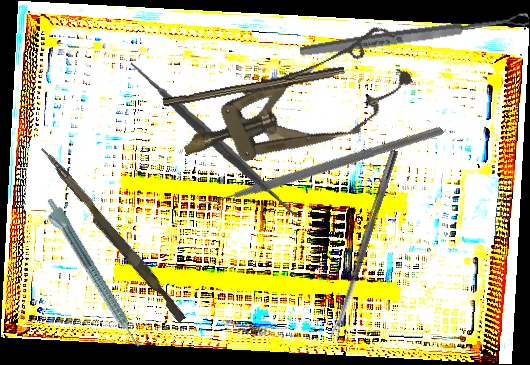Chopper: (187, 29, 445, 294)
Handpiece: (37, 195, 144, 354)
Pusher: (33, 145, 191, 324)
Scalpel Handle: (162, 63, 346, 113)
Spatula Surgical: (122, 46, 306, 233)
Speculum: (167, 17, 423, 196)
Surgical Spoon: (329, 148, 399, 339), (299, 11, 530, 60)
